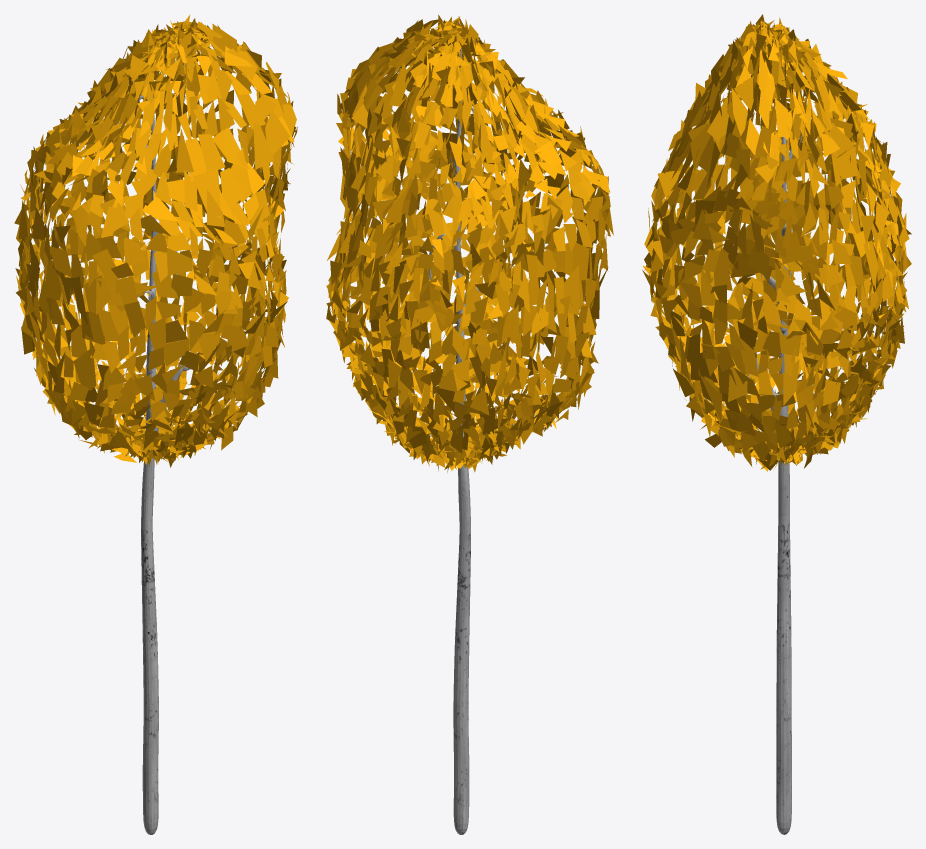
The model's file is Leaves43.fbx.
3 views of the same model, side by side, from view 1: azimuth 30°, elevation 25°; view 2: azimuth 150°, elevation 25°; view 3: azimuth 270°, elevation 25° (orthographic). The views are drawn at different scales.
Visible parts, largest first — view 1: Leaves43; view 2: Leaves43; view 3: Leaves43.
Boxes of the visible parts, bbox=[...] form: Leaves43: bbox=[14, 14, 297, 834]; Leaves43: bbox=[326, 14, 613, 834]; Leaves43: bbox=[642, 14, 911, 834].
Size of the model in its own units: 873 by 2643 by 783.
2 materials, 1 textured.
